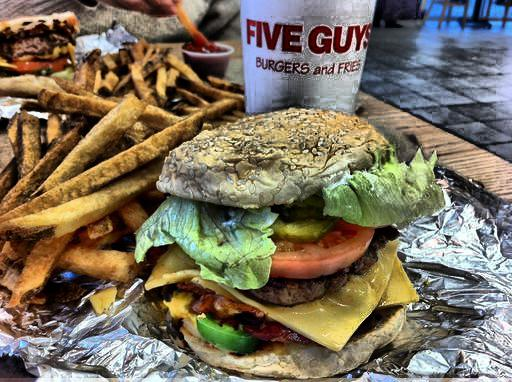burger: (134, 105, 428, 375)
